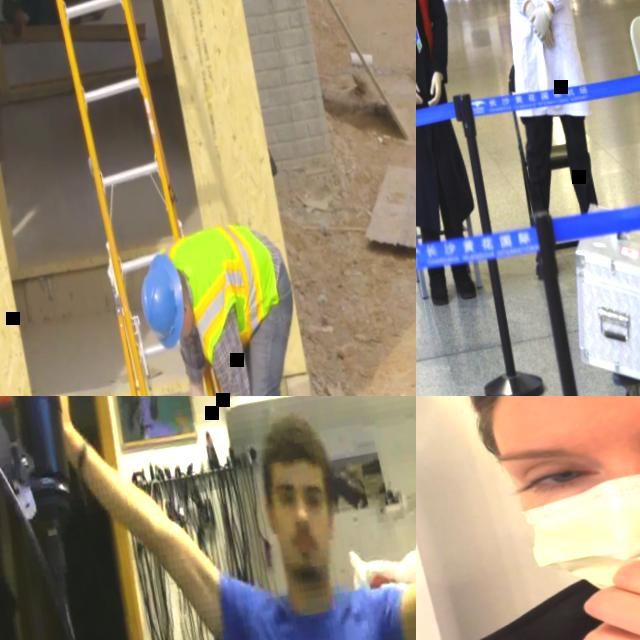Hardhat: (132, 250, 192, 352)
Mask: (498, 396, 640, 623)
NO-Hardhat: (261, 412, 328, 478)
NO-Mask: (281, 526, 331, 584), (181, 317, 194, 339)
NO-Safety Vest: (416, 547, 640, 640), (239, 592, 401, 640), (488, 0, 582, 76)
Person: (38, 396, 416, 640), (416, 396, 640, 640), (451, 0, 626, 272), (131, 211, 325, 396), (416, 0, 497, 310), (0, 0, 107, 39)
Safety Vest: (167, 216, 288, 368)
